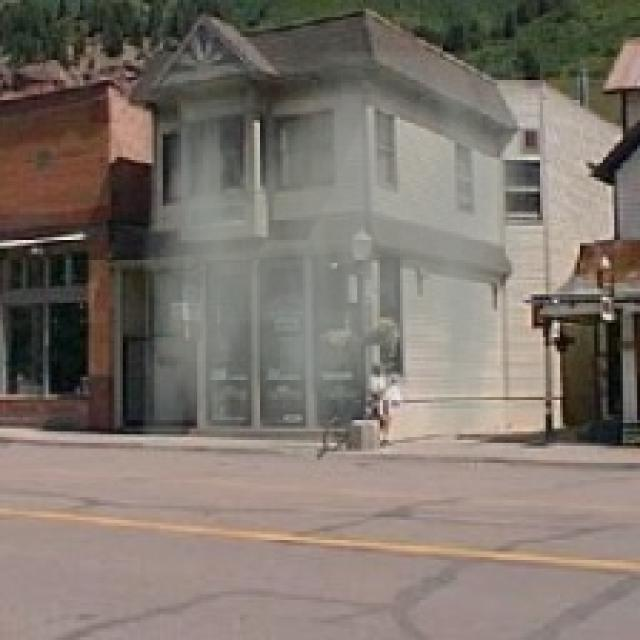smoke: (143, 51, 526, 463)
